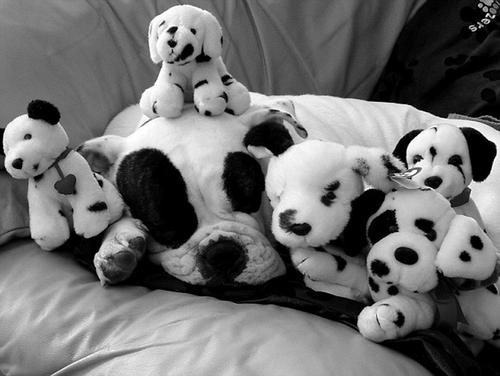dog: (394, 112, 494, 209), (138, 5, 236, 77)
